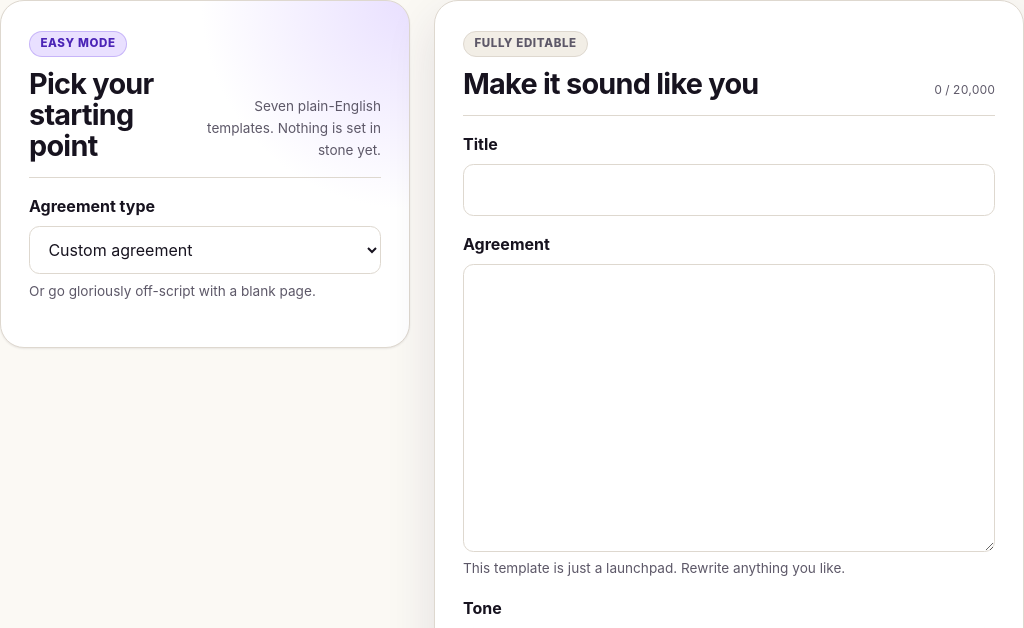
Test: ContractForm easter egg › winks when a reserved name is typed into the free-form title
Type "Pierre 184" into the field labelled "Title".
click(729, 190); type("Pierre 184")  # box [463,164,995,216]
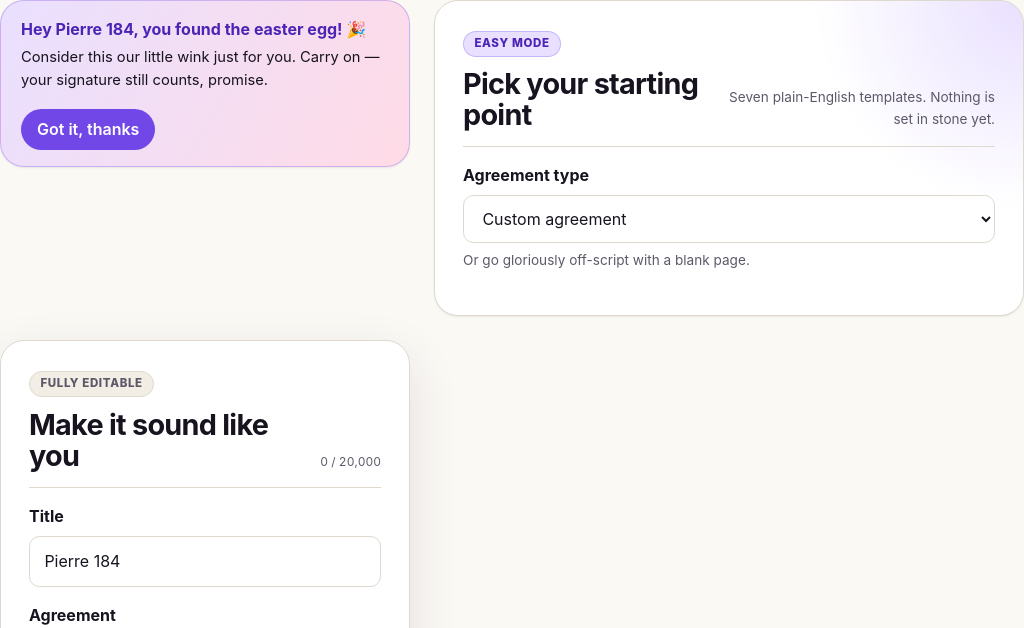
Expected: the text "Hey Pierre 184, you found the easter egg! 🎉" is shown, [21,17,389,43]
